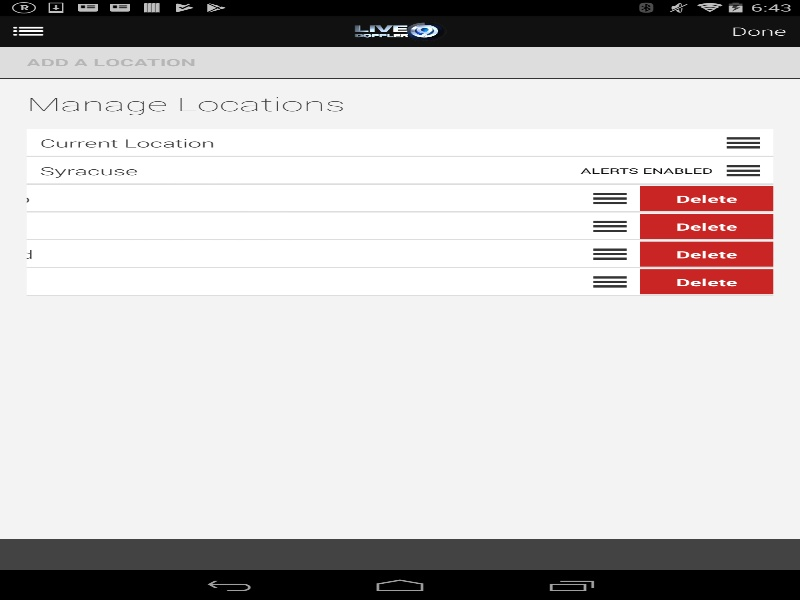Input: (0, 55, 800, 69)
